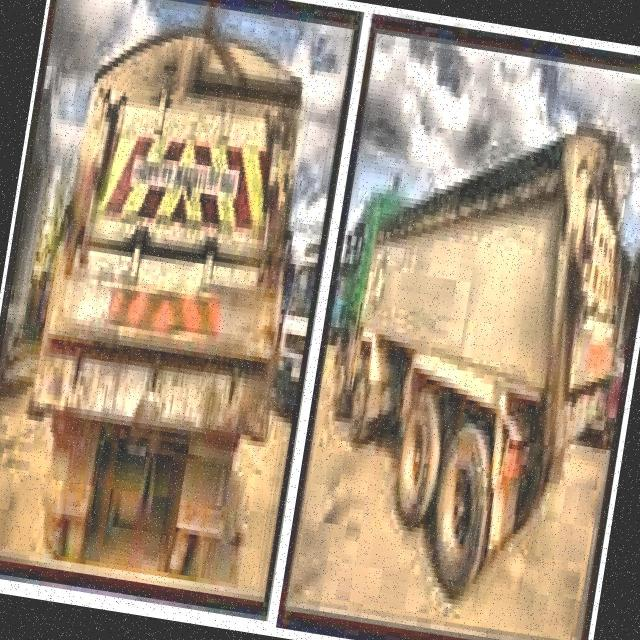dump_truck: (7, 3, 331, 587), (295, 82, 640, 615)
